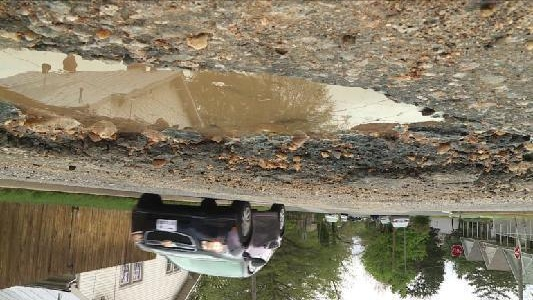pothole: (0, 43, 532, 193)
